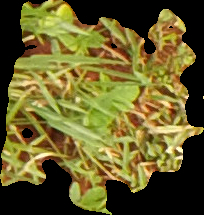grass: (1, 1, 203, 213)
